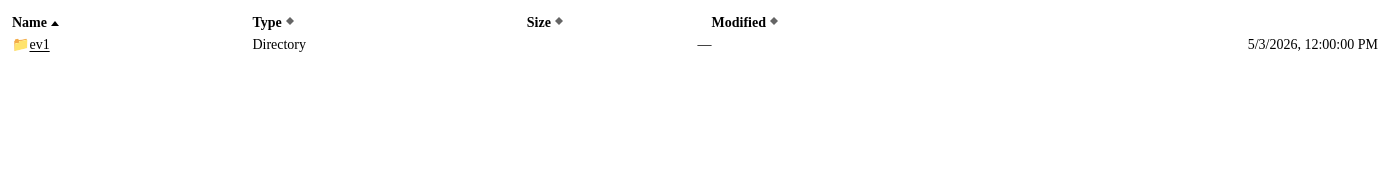
it: DirectoryBrowser › renders a single leading slash in breadcrumbs for mount-id browsing with a blank root label
What coordinates should you click on to do the following:
click the button with class "entry-nav-btn"
I would click on:
 (40, 46)
Its box is [30, 34, 50, 57].
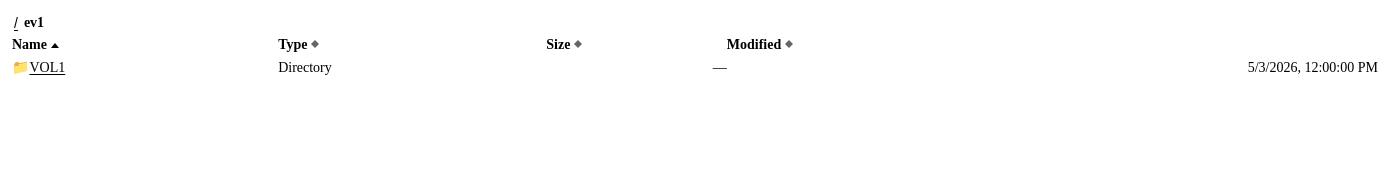
What coordinates should you click on to do the following:
click the button with class "entry-nav-btn"
I would click on:
 (47, 68)
Its box is [30, 57, 65, 79].
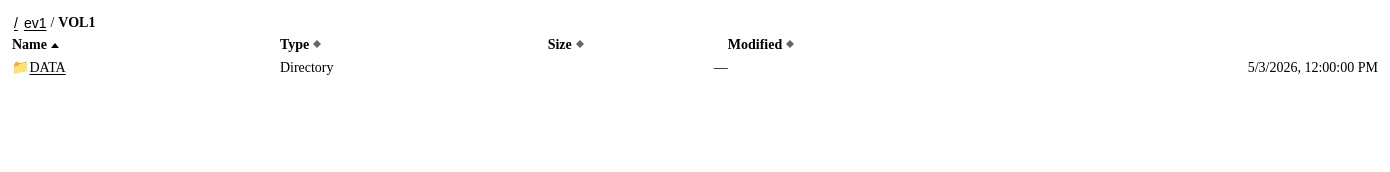
Expected: the navigation bar with class "breadcrumb" reads "/ ev1 / VOL1", [12, 15, 95, 31]
